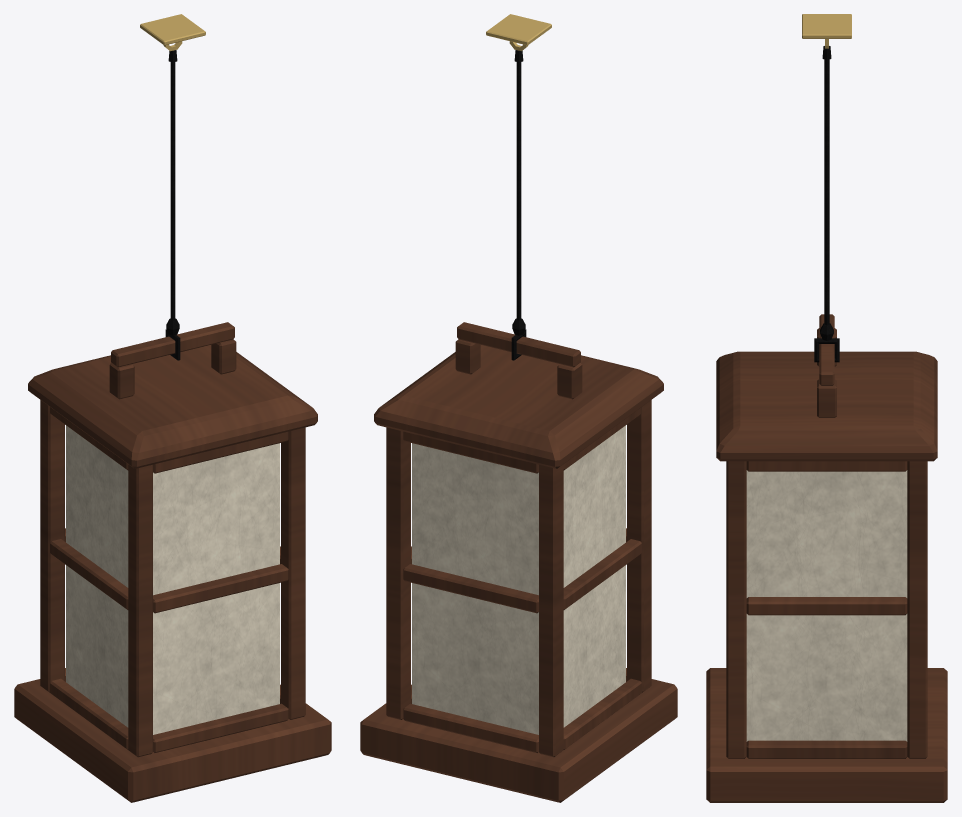
The model's file is 09B_Andon.fbx.
3 views of the same model, side by side, from view 1: azimuth 30°, elevation 25°; view 2: azimuth 150°, elevation 25°; view 3: azimuth 270°, elevation 25° (orthographic). The views are drawn at different scales.
Parts seen in each view (by area): view 1: SM_09B_Andon_Madera, SM_09B_Andon_Papel, SM_09B_Colgante; view 2: SM_09B_Andon_Madera, SM_09B_Andon_Papel, SM_09B_Colgante; view 3: SM_09B_Andon_Madera, SM_09B_Andon_Papel, SM_09B_Colgante.
Part boxes in pixels (<box>): SM_09B_Andon_Madera: <box>14,322,331,802</box>; SM_09B_Andon_Papel: <box>66,425,279,734</box>; SM_09B_Colgante: <box>140,14,205,360</box>; SM_09B_Andon_Madera: <box>360,322,677,802</box>; SM_09B_Andon_Papel: <box>412,425,625,734</box>; SM_09B_Colgante: <box>486,14,551,360</box>; SM_09B_Andon_Madera: <box>706,314,947,802</box>; SM_09B_Andon_Papel: <box>746,470,907,741</box>; SM_09B_Colgante: <box>802,14,851,362</box>.
Size of the model in its own units: 0.24 by 0.8 by 0.24.
